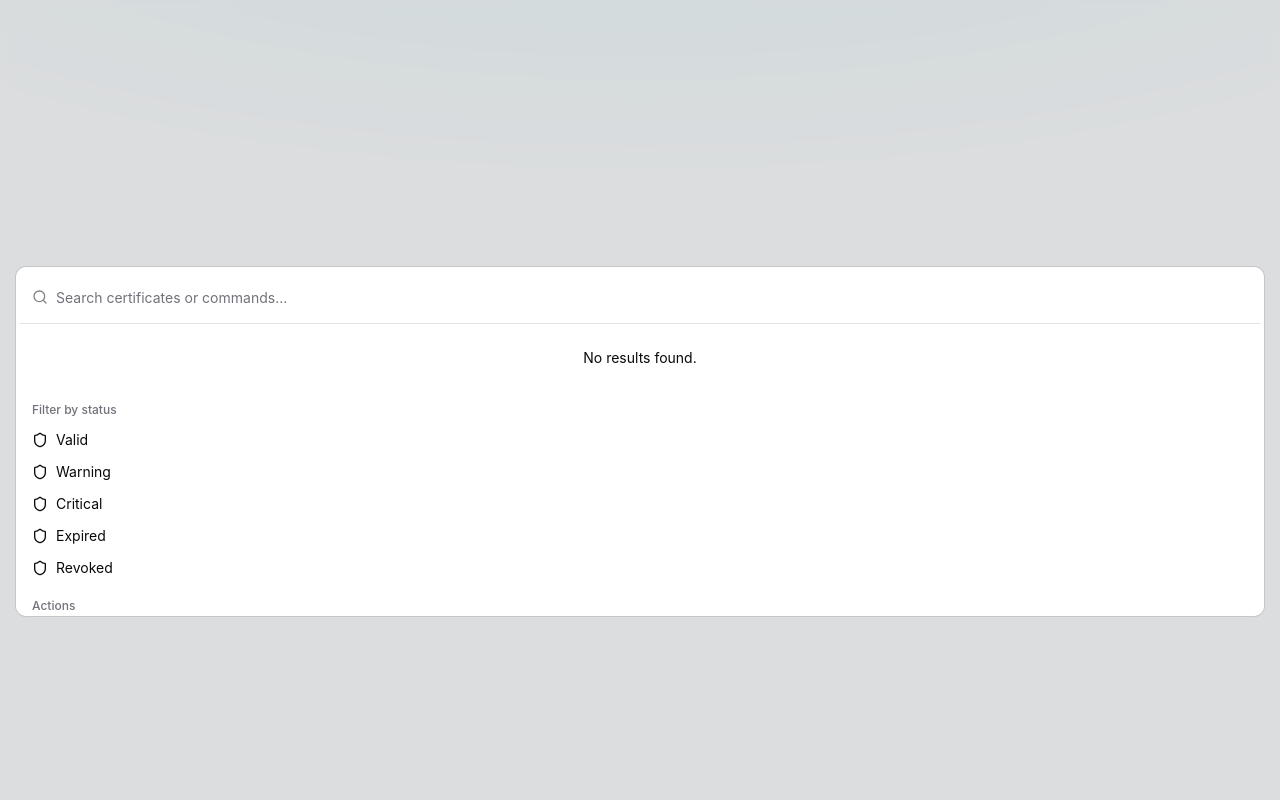
Test case: CommandPalette › matches a certificate by common name, serial, or SAN substring
Type "san-only" into the dropdown with placeholder "Search certificates or commands…" at (652, 297), box [56, 279, 1248, 315]
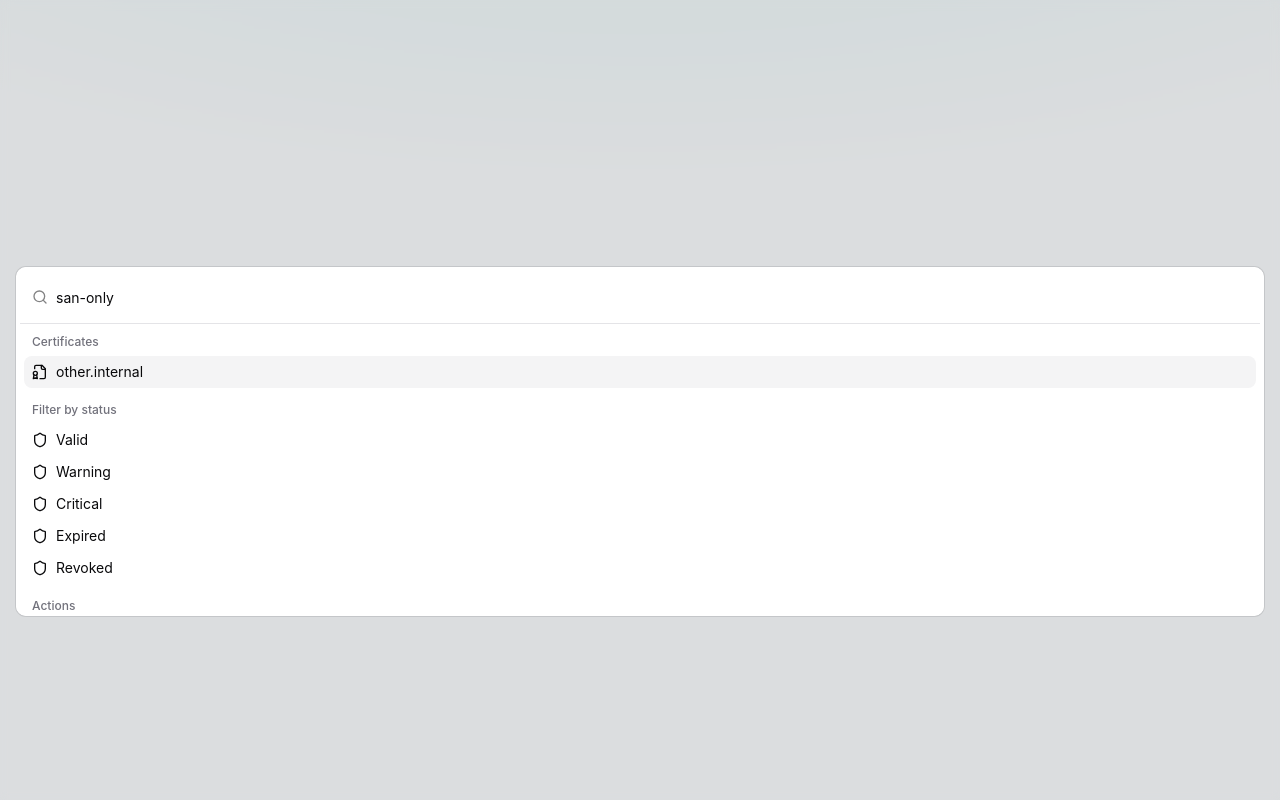
expect the text "other.internal" is shown: met, box [56, 362, 143, 382]
